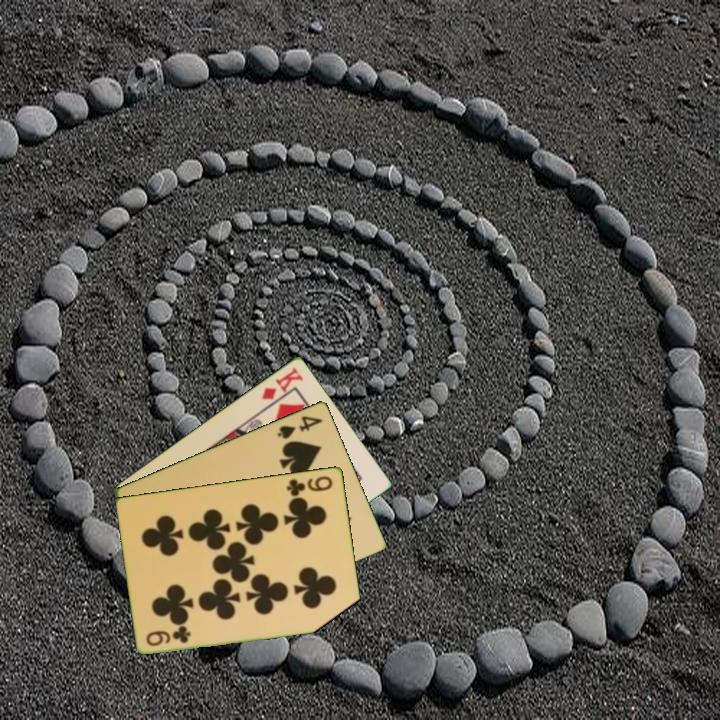4s: (274, 412, 326, 441)
9c: (283, 472, 336, 499), (143, 624, 194, 649)
Kd: (258, 363, 306, 402)
